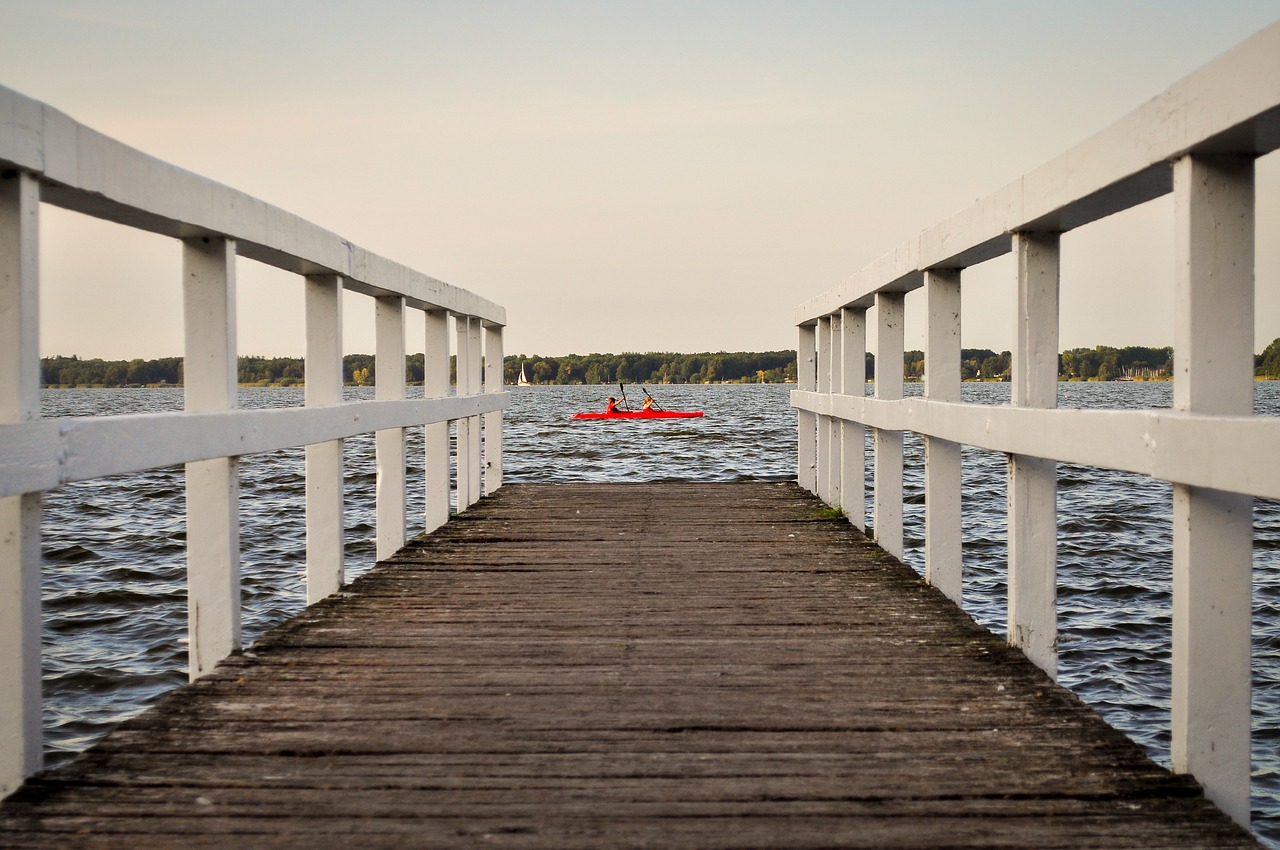kayak: (569, 408, 704, 421)
